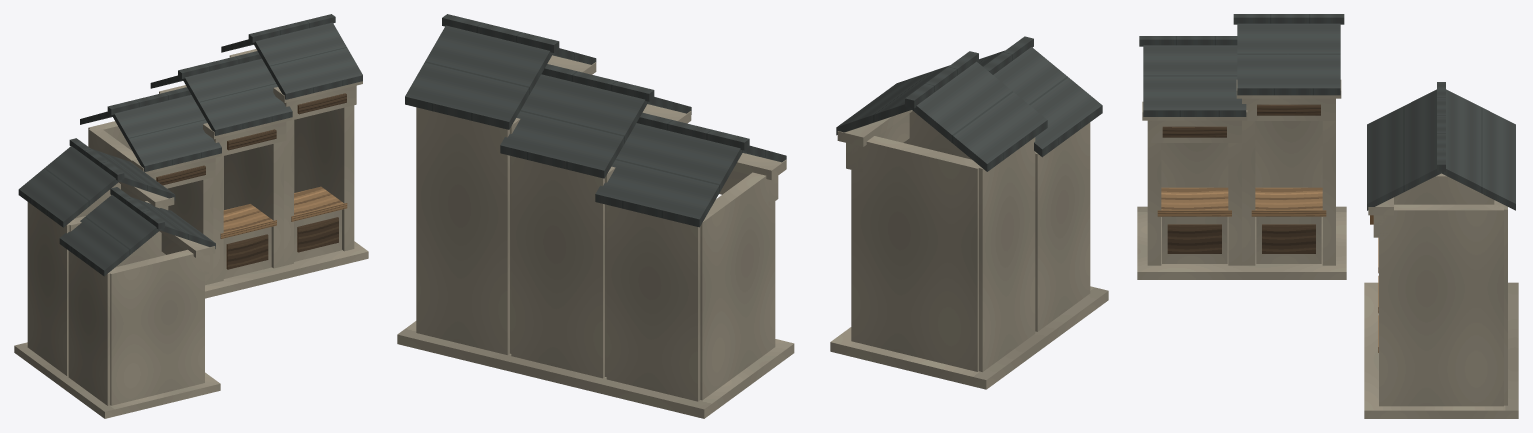
The picture shows the model from 3 angles, left to right: view 1: azimuth 30°, elevation 25°; view 2: azimuth 150°, elevation 25°; view 3: azimuth 270°, elevation 25°; orthographic projection. The views are drawn at different scales.
Parts seen in each view (by area): view 1: uyo; view 2: uyo; view 3: uyo.
Part boxes in pixels (box(x1,y1,x2,y2)): uyo: box(14, 14, 368, 418); uyo: box(397, 14, 1108, 418); uyo: box(1137, 14, 1518, 418).
Size of the model in its own units: 4.32 by 2.5 by 3.41.
Materials: 1 (1 with a texture image).
